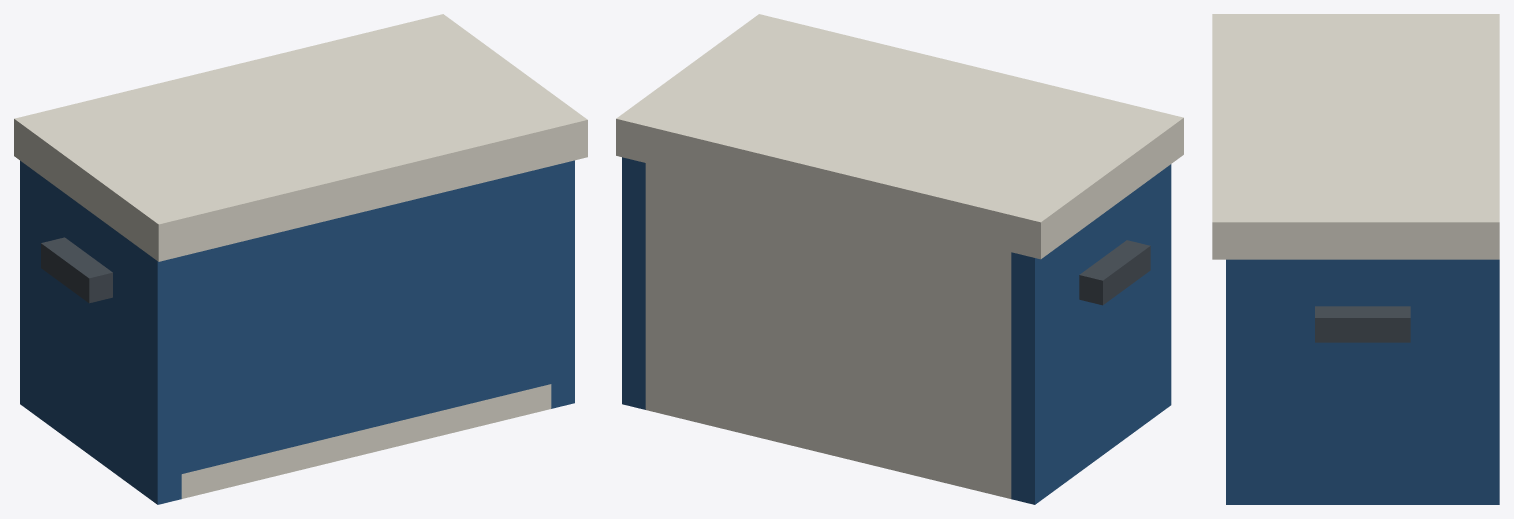
Rendered from GI_Cooler_01.glb.
3 views of the same model, side by side, from view 1: azimuth 30°, elevation 25°; view 2: azimuth 150°, elevation 25°; view 3: azimuth 270°, elevation 25° (orthographic).
Parts seen in each view (by area): view 1: GI_Cooler_01, Lid; view 2: GI_Cooler_01, Lid; view 3: Lid, GI_Cooler_01.
Boxes of the visible parts, box(x1,y1,x2,y2) form: GI_Cooler_01: box(20, 160, 574, 504); Lid: box(14, 14, 587, 261); GI_Cooler_01: box(622, 157, 1171, 504); Lid: box(616, 14, 1183, 259); Lid: box(1212, 14, 1499, 259); GI_Cooler_01: box(1226, 259, 1499, 504).
Size of the model in its own units: 0.78 by 0.46 by 0.42.
Materials: 1 (1 with a texture image).
